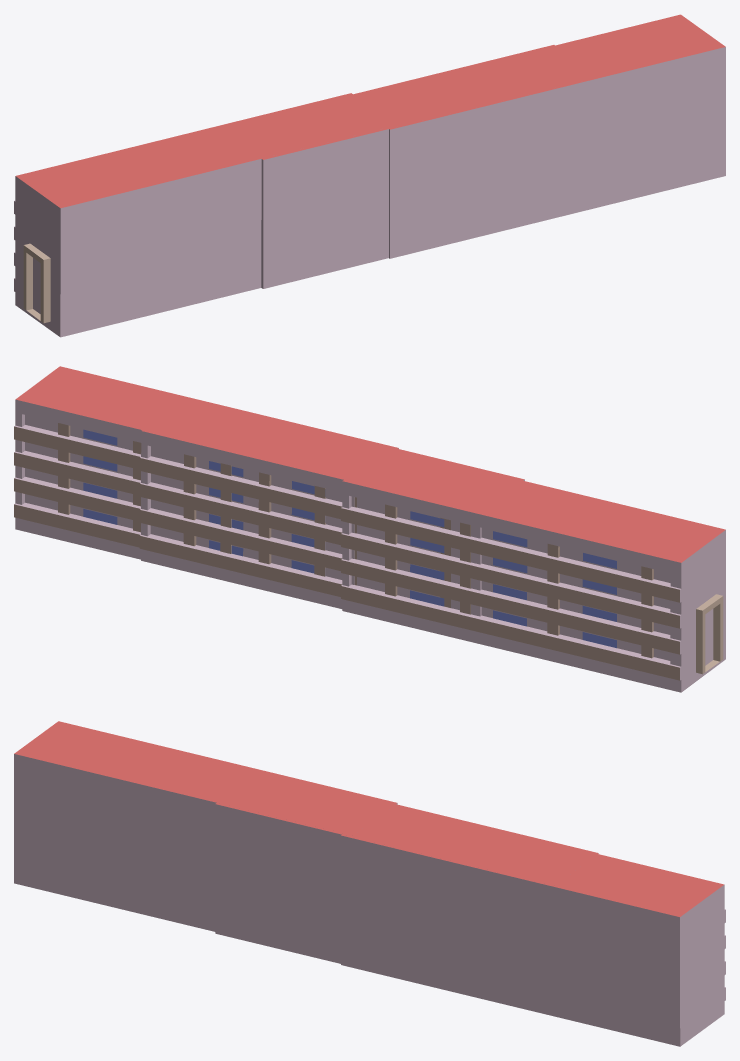
Rendered from blankbuild.glb.
3 renders of one model, top to bottom at view 1: azimuth 30°, elevation 25°; view 2: azimuth 150°, elevation 25°; view 3: azimuth 330°, elevation 25°, orthographic.
Parts seen in each view (by area): view 1: Plane.001, Cube.002; view 2: Plane.001, Cube.002; view 3: Plane.001.
Boxes of the visible parts, left/top/right/bottom form: Plane.001: left=14, top=14, right=725, bottom=337; Cube.002: left=23, top=243, right=50, bottom=323; Plane.001: left=14, top=366, right=725, bottom=692; Cube.002: left=696, top=594, right=723, bottom=674; Plane.001: left=14, top=721, right=725, bottom=1046.
Size of the model in its own units: 38.34 by 7.07 by 4.85.
